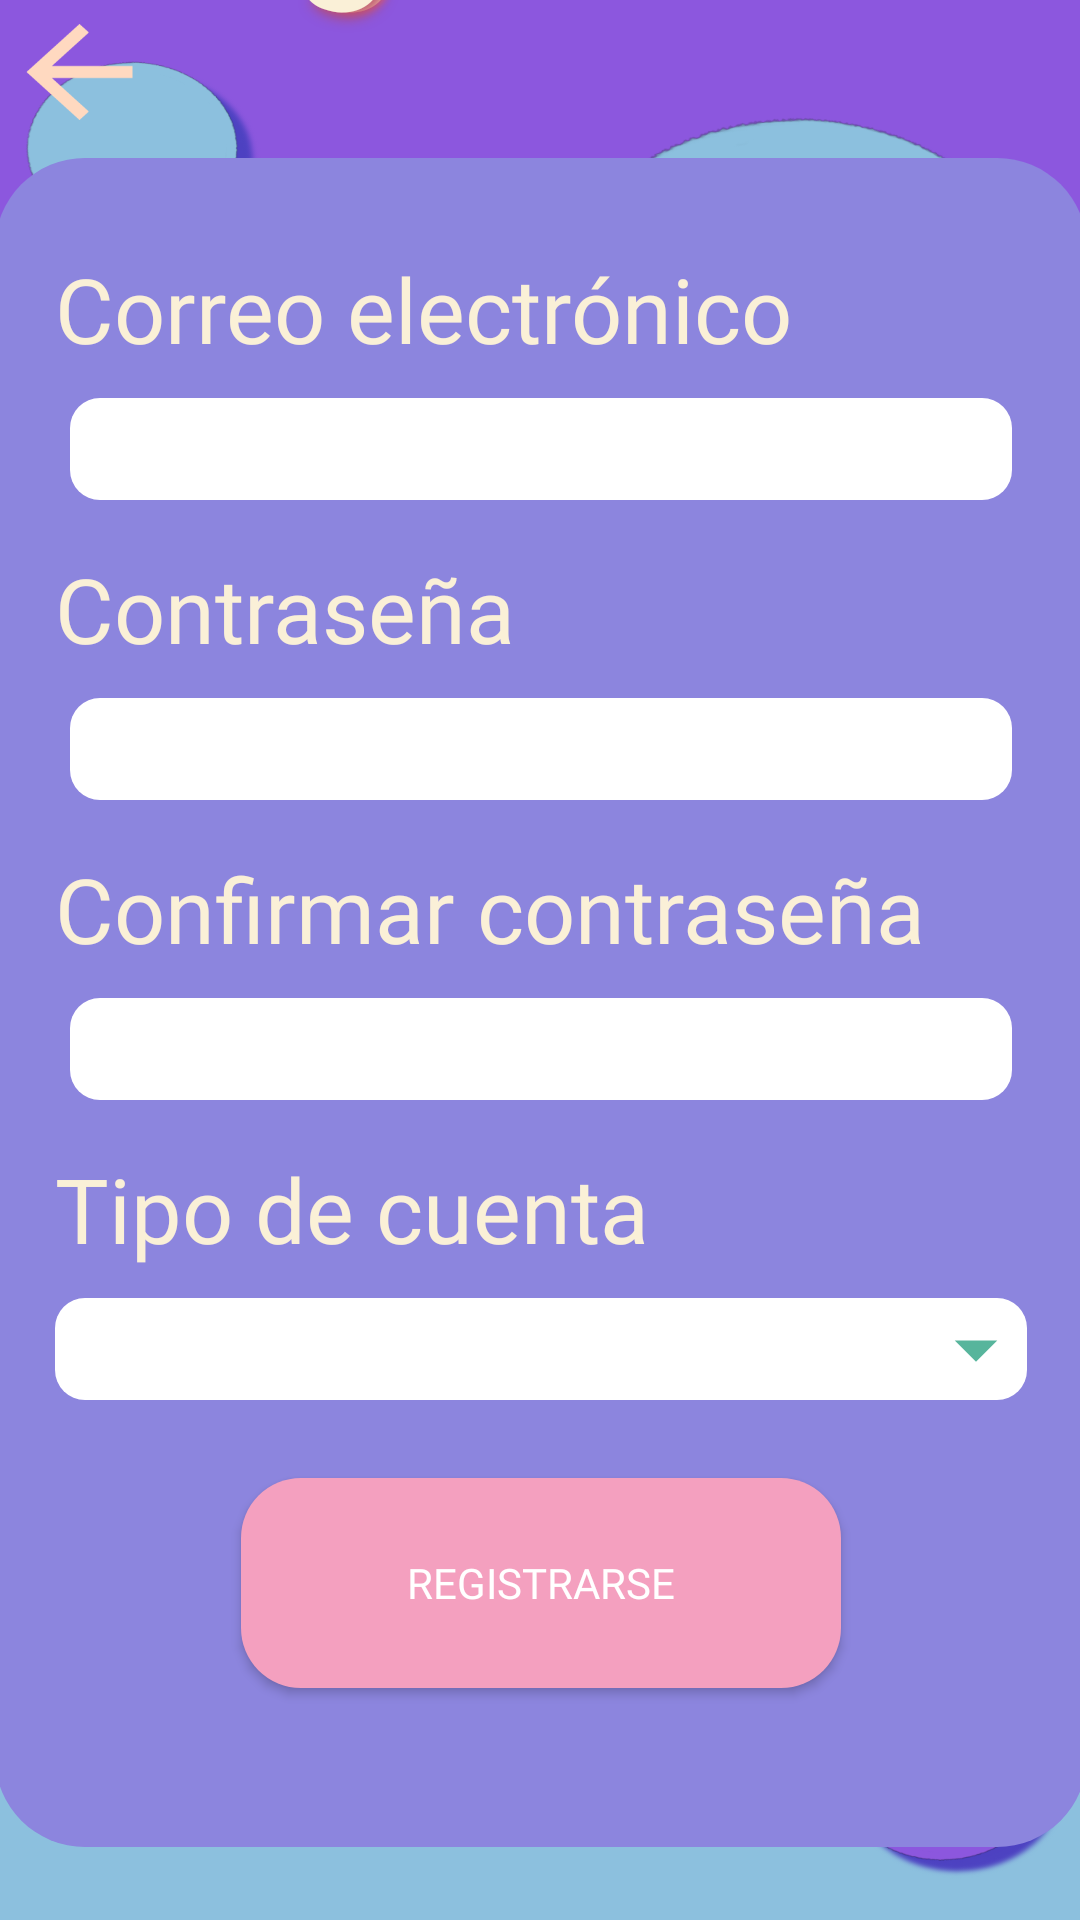

Screen size 1080 × 1920. Icon name, then its box in pixels as (x1, y1, x2, y2):
arrow back: (0, 0, 159, 144)
dropdown arrow: (925, 1298, 1027, 1400)
